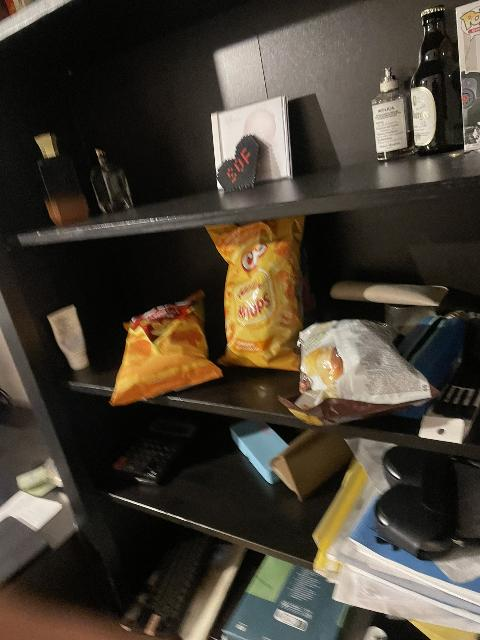Chio Cascaval 125g: (110, 296, 223, 406)
Chio Hula Hoops Cheese 70g: (206, 223, 309, 372)
Lays Beef Grilled Ribs 125g: (285, 319, 429, 426)
